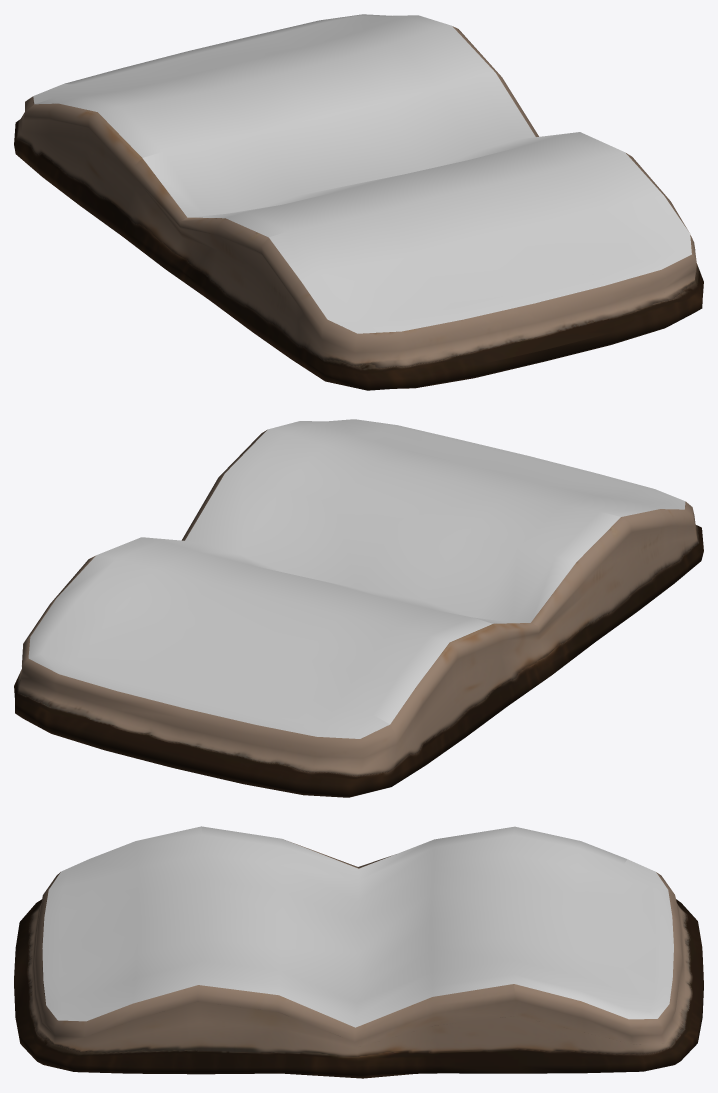
Rendered from Dynamic_Book.fbx.
3 renders of one model, top to bottom at view 1: azimuth 30°, elevation 25°; view 2: azimuth 150°, elevation 25°; view 3: azimuth 270°, elevation 25°, orthographic. The views are drawn at different scales.
Parts seen in each view (by area): view 1: DynamicBook; view 2: DynamicBook; view 3: DynamicBook.
Part boxes in pixels (x1,y1,x2,y2): DynamicBook: (14,14,703,390); DynamicBook: (14,419,703,797); DynamicBook: (14,826,703,1078).
Bounding box in the file's own units: 36.33 × 9.94 × 60.8.
